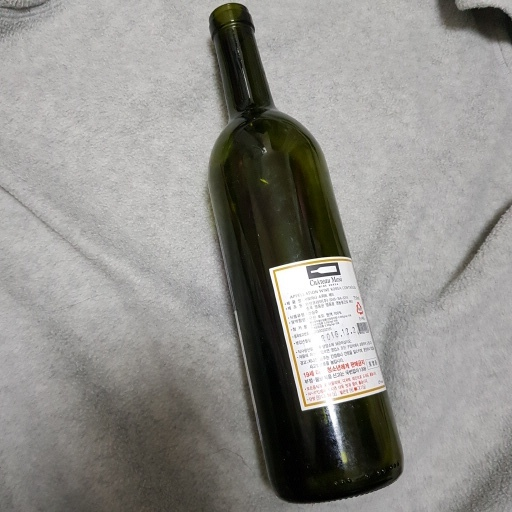Glass_2: (202, 2, 410, 502)
